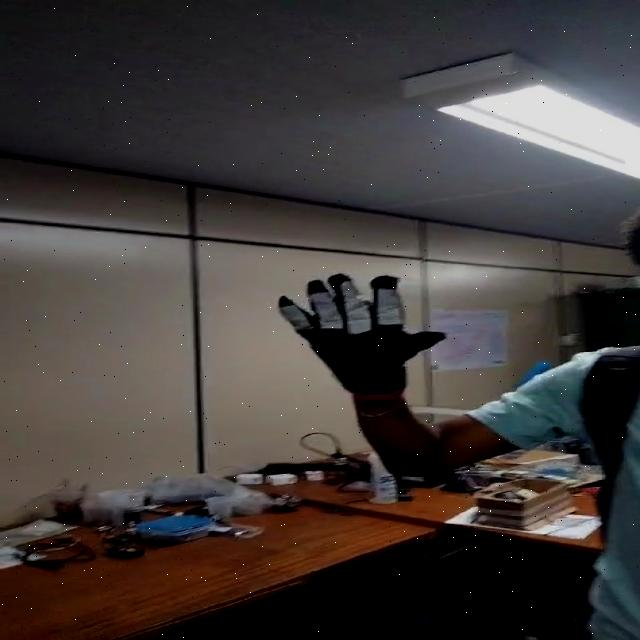Gloves: (279, 272, 454, 395)
